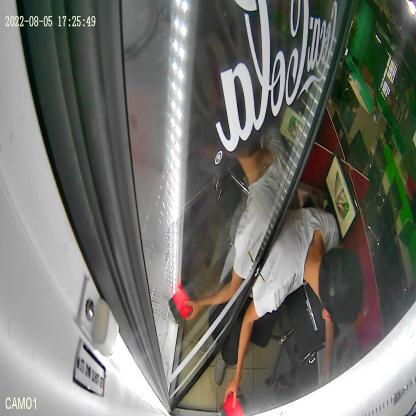red: (218, 386, 250, 416)
